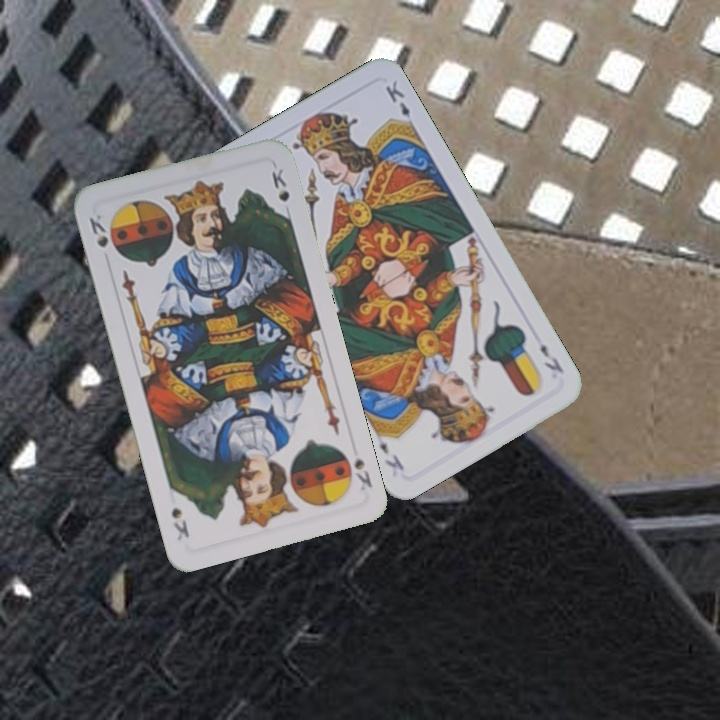EK: (536, 339, 567, 376)
SK: (85, 210, 111, 250), (350, 454, 375, 494)
